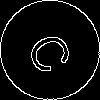C: (25, 25, 82, 78)
